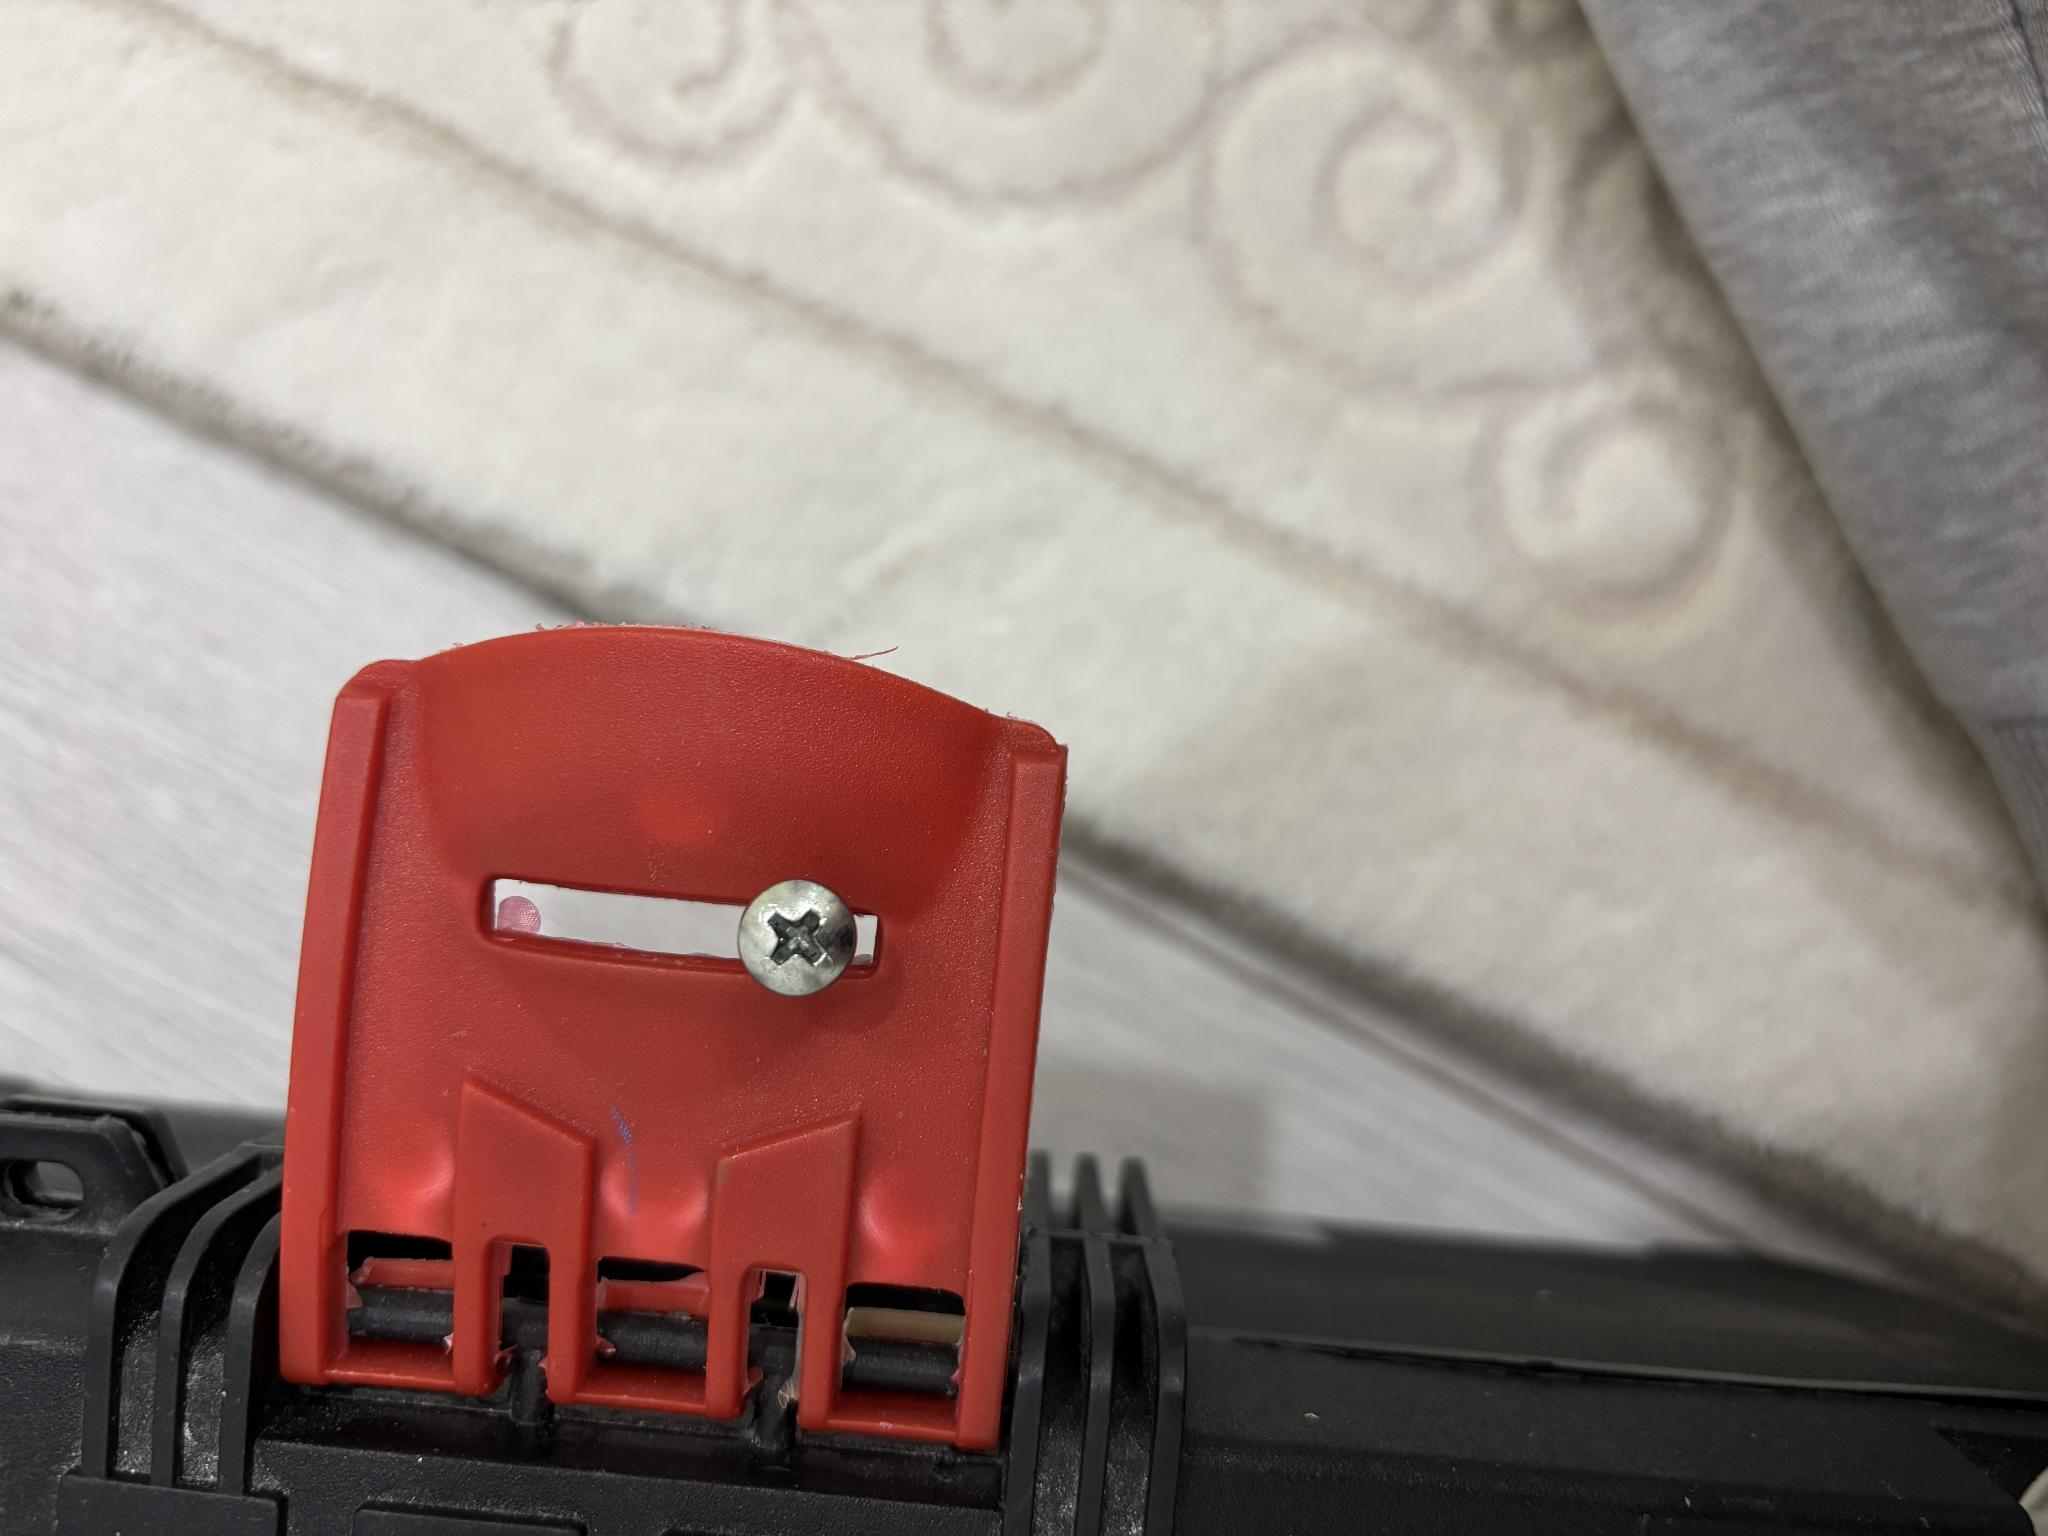PH: (542, 741, 655, 855)
